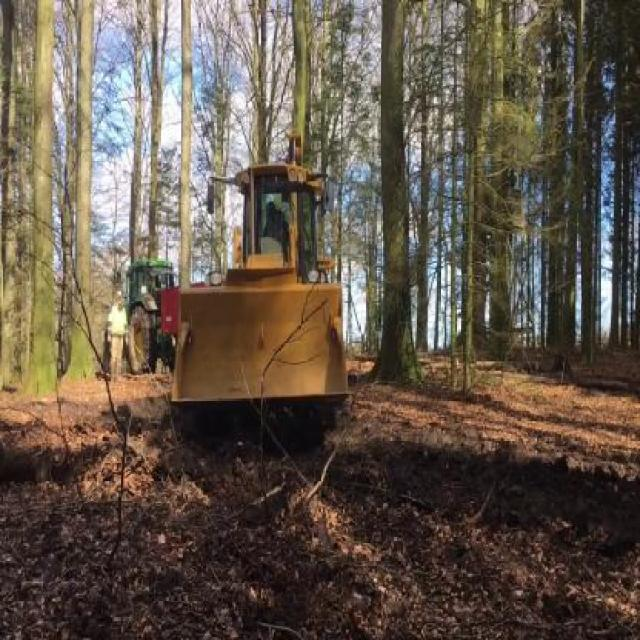Dump Truck: (100, 252, 182, 376)
